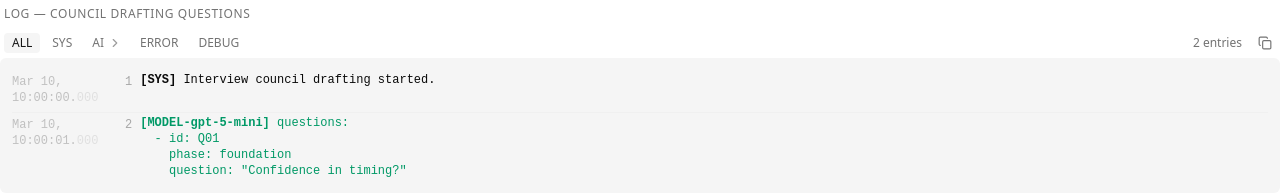
Test case: PhaseLogPanel › shows canonical raw AI output in ALL while suppressing transcript and summary duplicates
The image size is (1280, 195).
(page scrolled)
Check: the text "[SYS] Interview council drafting started." is shown, box [140,73,436,87]
Check: the text "Confidence in timing?" is shown once, box [140,116,407,178]
Click the button "AI". click: (95, 43)
box: [84,33,106,53]
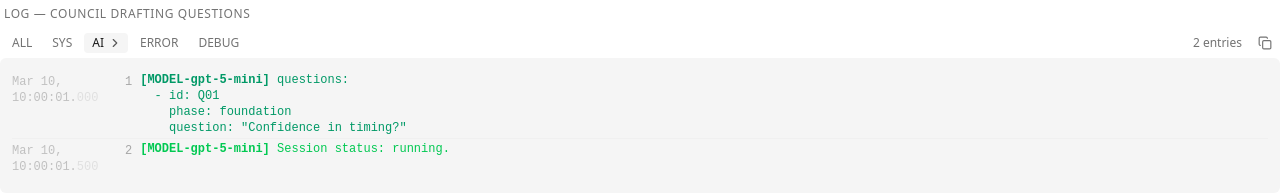
Check: the text "Confidence in timing?" is shown once, box [140,73,407,135]
Check: the text "[MODEL-gpt-5-mini] Session status: running." is shown, box [140,142,450,156]
Click the button "DEBUG". click: (219, 43)
box: [190,33,247,53]
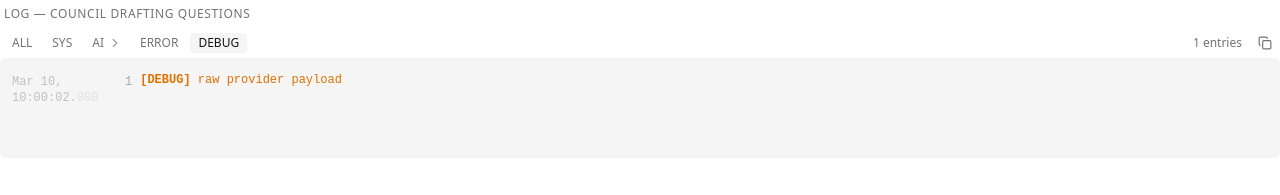
Check: the text "[DEBUG] raw provider payload" is shown, box [140,73,342,87]
